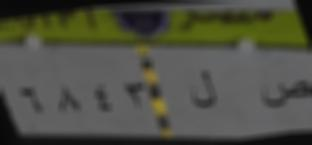3: (121, 77, 146, 108)
4: (89, 80, 116, 117)
6: (18, 81, 49, 113)
8: (57, 80, 82, 121)
laam: (187, 63, 219, 116)
saad: (257, 73, 312, 110)
